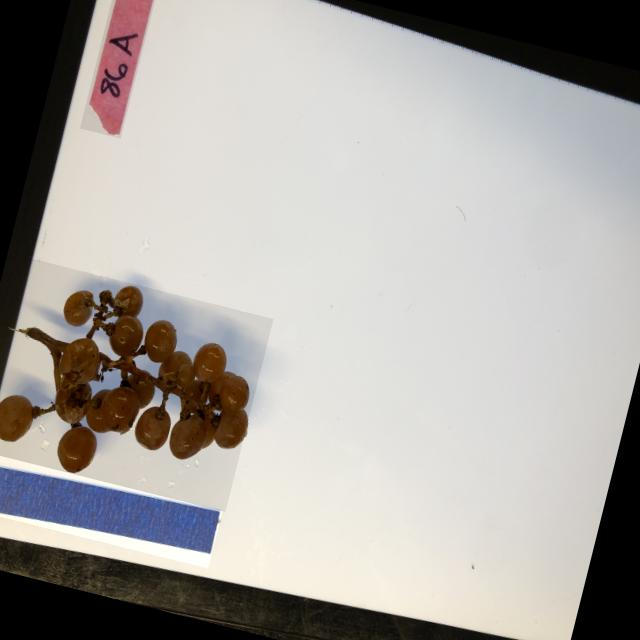grape_cluster: (0, 258, 274, 511)
index: (79, 0, 163, 137)
measure_label: (0, 452, 222, 567)
